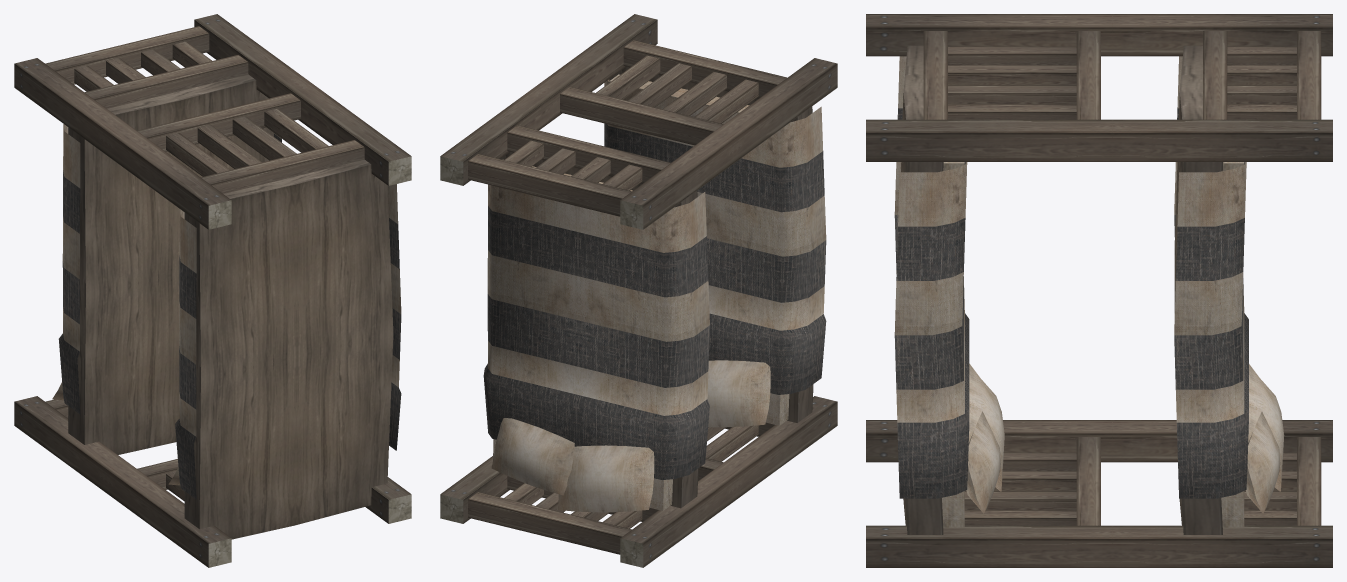
Rendered from Bed_Bunk_A.fbx.
3 views of the same model, side by side, from view 1: azimuth 30°, elevation 25°; view 2: azimuth 150°, elevation 25°; view 3: azimuth 270°, elevation 25° (orthographic). The views are drawn at different scales.
Parts seen in each view (by area): view 1: Bed_Bunk_A; view 2: Bed_Bunk_A; view 3: Bed_Bunk_A.
Boxes of the visible parts, x1,y1,x2,y2 form: Bed_Bunk_A: (14,14,411,567); Bed_Bunk_A: (440,14,837,567); Bed_Bunk_A: (866,14,1332,567).
Bounding box in the file's own units: 2.23 × 3.73 × 3.62.
